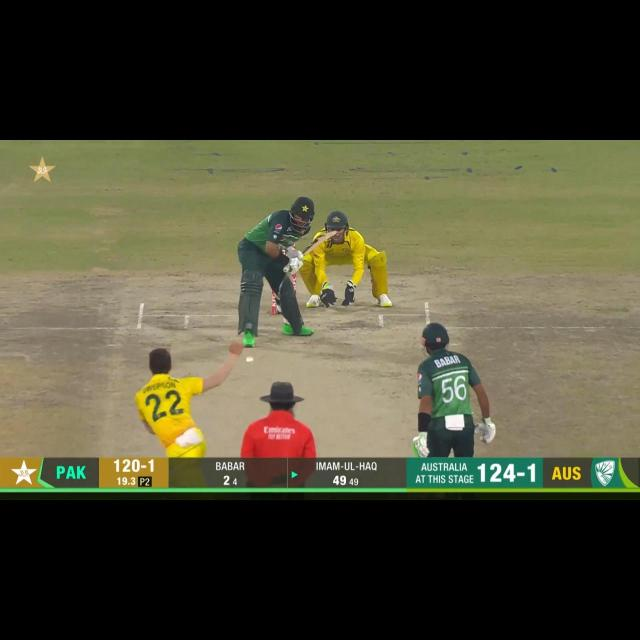bat: (290, 229, 338, 256)
toe: (320, 229, 338, 241)
